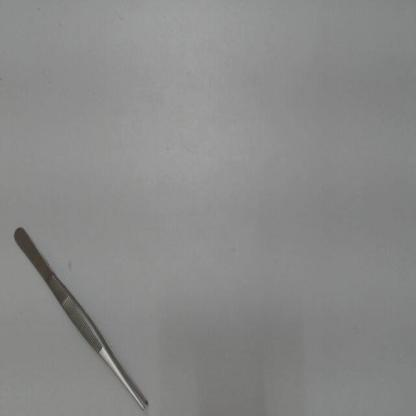Gillies Toothed Dissector: (10, 212, 154, 412)
